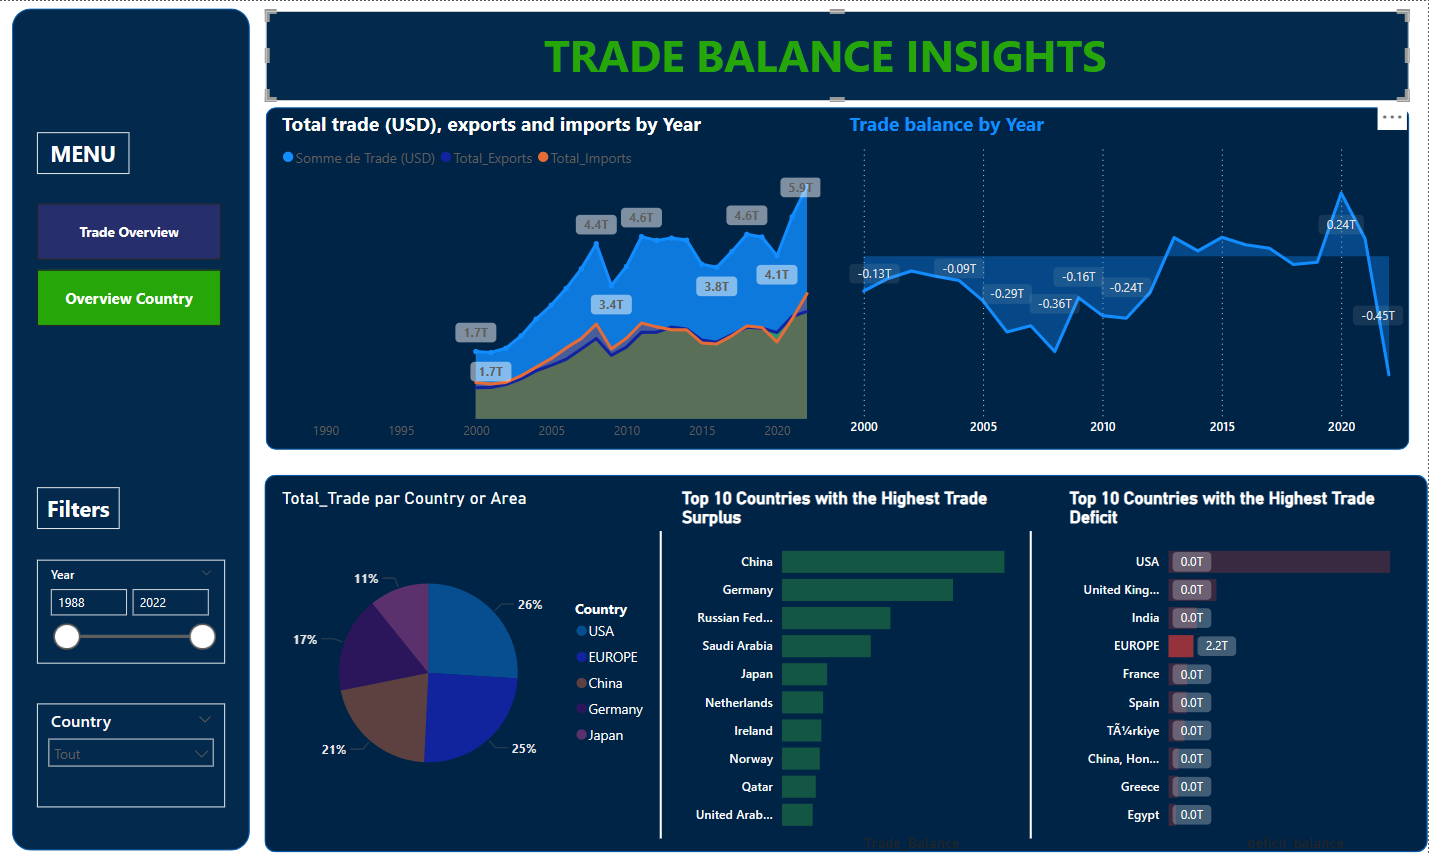

What the dashboard file says about the page in this screenshot:
{"tool":"powerbi","page":{"name":"Overview Country","canvas":[1400,840],"ordinal":1},"visuals":[{"type":"shape","box":[261.9,463,1138.1,369.5],"z":0},{"type":"shape","box":[262.5,104.3,1118.9,335.1],"z":1000},{"type":"shape","box":[15,7.5,232.6,824],"z":2000},{"type":"stackedAreaChart","title":"Trade balance by Year","fields":{"Category":["worldtrade.Year"],"Y":["worldtrade.Trade_Balance"]},"box":[829.4,107.6,551.9,327.4],"z":3000},{"type":"shape","box":[262.5,9.2,1118.6,88.4],"z":4000},{"type":"slicer","fields":{"Values":["worldtrade.Year"]},"box":[39,546.9,184,101.3],"z":5000},{"type":"areaChart","title":"Total trade (USD), exports and imports by Year","fields":{"Category":["worldtrade.Year"],"Y":["Sum(worldtrade.Trade (USD))","worldtrade.Total_Exports","worldtrade.Total_Imports"]},"box":[274.4,108.2,536.9,331.1],"z":6000},{"type":"clusteredBarChart","title":"Top 10 Countries with the Highest Trade Surplus","fields":{"Category":["worldtrade.Country or Area"],"Y":["worldtrade.Trade_Balance"]},"box":[665.7,475.5,361.7,361.7],"z":7000},{"type":"pieChart","fields":{"Y":["worldtrade.Total_Trade"],"Category":["worldtrade.Country or Area"]},"box":[274.4,475.5,372.6,344.5],"z":8000},{"type":"clusteredBarChart","title":"Top 10 Countries with the Highest Trade Deficit","fields":{"Category":["worldtrade.Country or Area"],"Y":["worldtrade.deficit_balance"]},"box":[1044.5,475.5,355.5,361.7],"z":9000},{"type":"shape","box":[498.9,519.2,300.9,300.9],"z":10000},{"type":"shape","box":[860.6,519.2,300.9,300.9],"z":11000},{"type":"slicer","fields":{"Values":["worldtrade.Country or Area"]},"box":[39,687.2,184,101.3],"z":12000},{"type":"pageNavigator","box":[39,198,180.8,121.6],"z":13000},{"type":"textbox","box":[39,127.8,90.4,40.5],"z":14000},{"type":"textbox","box":[39,475.5,81.1,40.5],"z":15000},{"type":"textbox","box":[392.9,18.7,835.6,68.6],"z":16000}]}

Visuals, with their boxes in screenshot pixels (x1, y1, x2, y2), scaled from the page's 1400x840 canvas onto the 1429x855 screenshot:
shape: (267,471,1428,847)
shape: (268,106,1410,447)
shape: (15,8,253,846)
"Trade balance by Year" stackedAreaChart: (847,110,1410,443)
shape: (268,9,1410,99)
slicer - worldtrade.Year: (40,557,228,660)
"Total trade (USD), exports and imports by Year" areaChart: (280,110,828,447)
"Top 10 Countries with the Highest Trade Surplus" clusteredBarChart: (679,484,1049,852)
pieChart - worldtrade.Total_Trade x worldtrade.Country or Area: (280,484,660,835)
"Top 10 Countries with the Highest Trade Deficit" clusteredBarChart: (1066,484,1428,852)
shape: (509,528,816,835)
shape: (878,528,1186,835)
slicer - worldtrade.Country or Area: (40,699,228,803)
pageNavigator: (40,202,224,325)
textbox: (40,130,132,171)
textbox: (40,484,123,525)
textbox: (401,19,1254,89)
